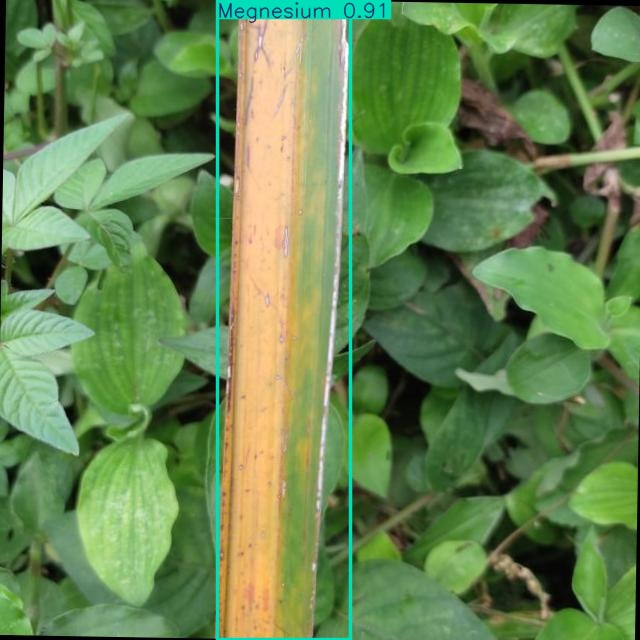Megnesium: (217, 0, 350, 639)
